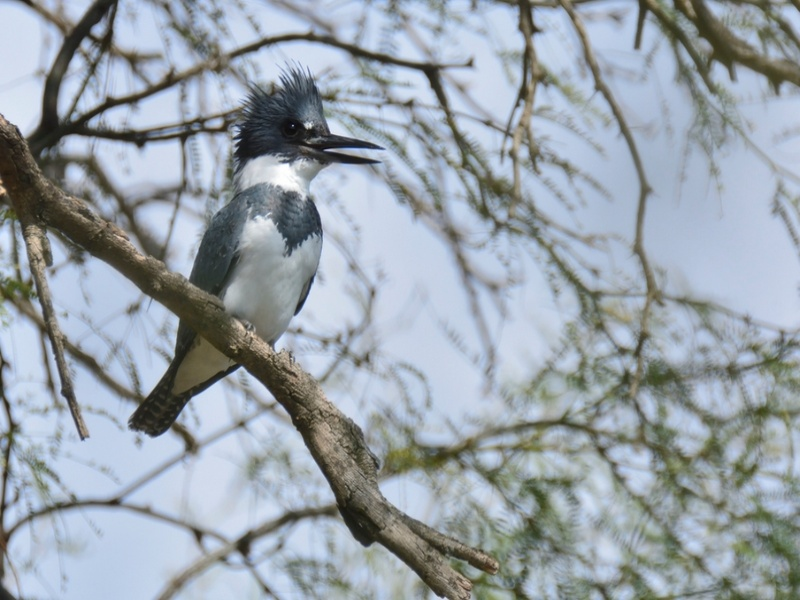kingfisher: (126, 61, 386, 439)
